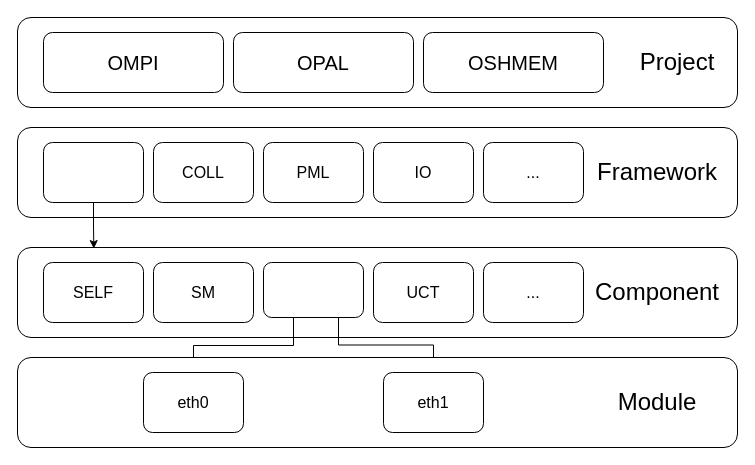
Image size: 755x465. Some labels were removed from this diagram. The shapes that lost their labels are listed below. From the top down, each one's centre as x and y in pixels, then its label:
At [93,172]: "BTL".
At [313,290]: "TCP".
